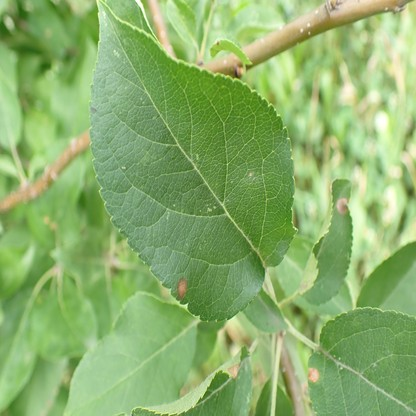frogeye_leaf_spot: (336, 197, 349, 215), (178, 279, 186, 299), (309, 368, 318, 383), (228, 365, 239, 376)
